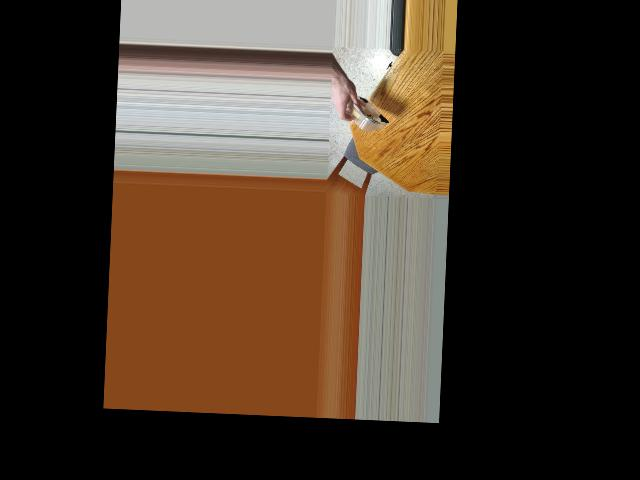cheese: (343, 89, 385, 141)
